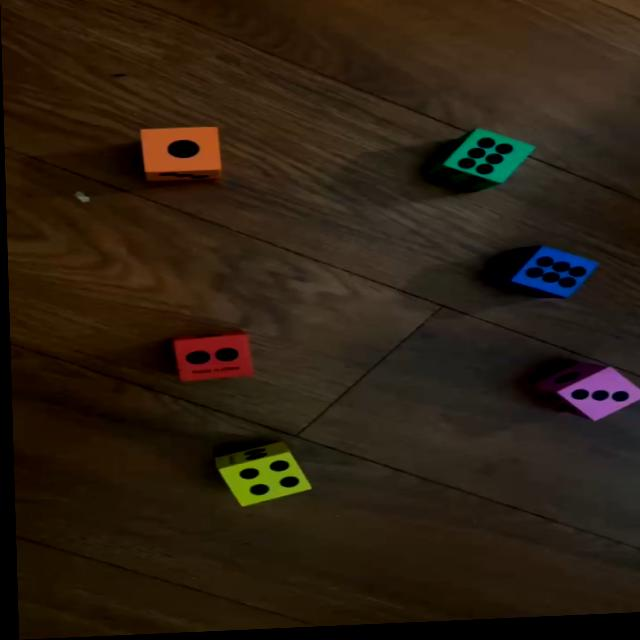blue_block: (493, 246, 604, 312)
red_block: (167, 327, 254, 387)
